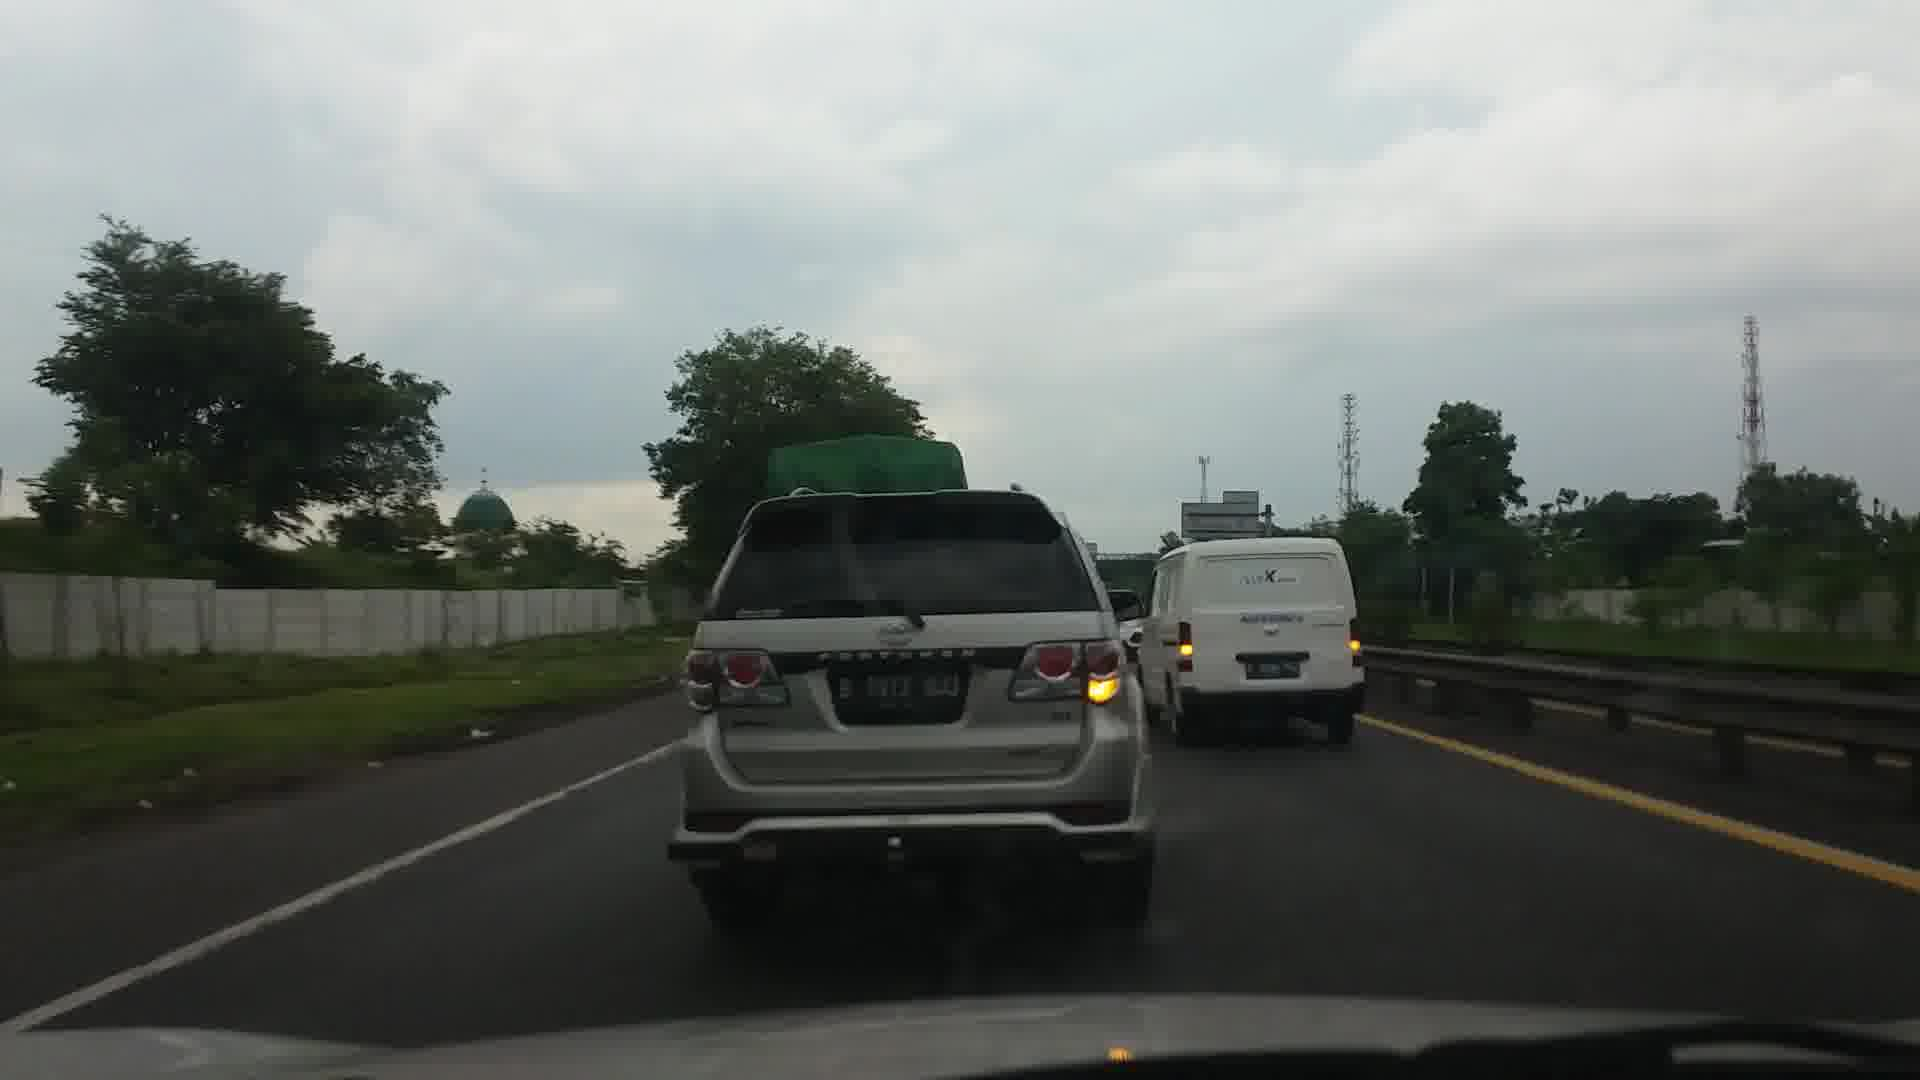plate_positive: (833, 669, 964, 712)
